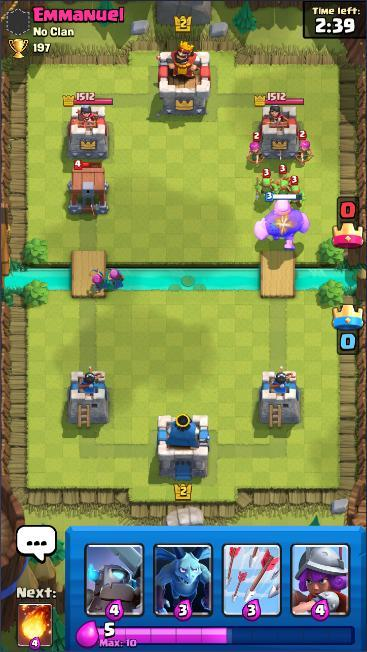ally_archer: (86, 264, 109, 297), (105, 267, 127, 291)
ally_giant: (253, 192, 312, 251)
enemy_archer: (292, 129, 316, 165), (245, 131, 268, 168)
enemy_goblin_cage: (64, 160, 115, 216)
enemy_spear_goblin: (253, 167, 281, 202), (283, 174, 306, 209), (272, 164, 293, 200)
